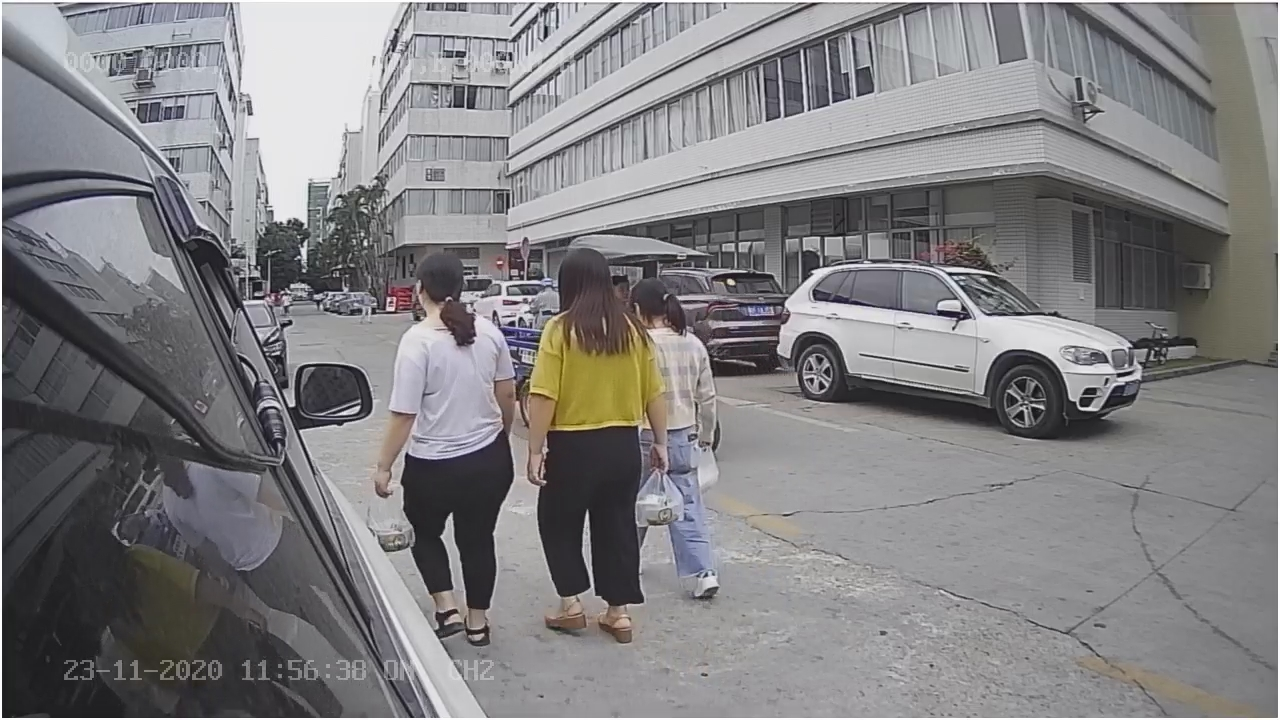person: (359, 246, 521, 649), (520, 242, 670, 652)
